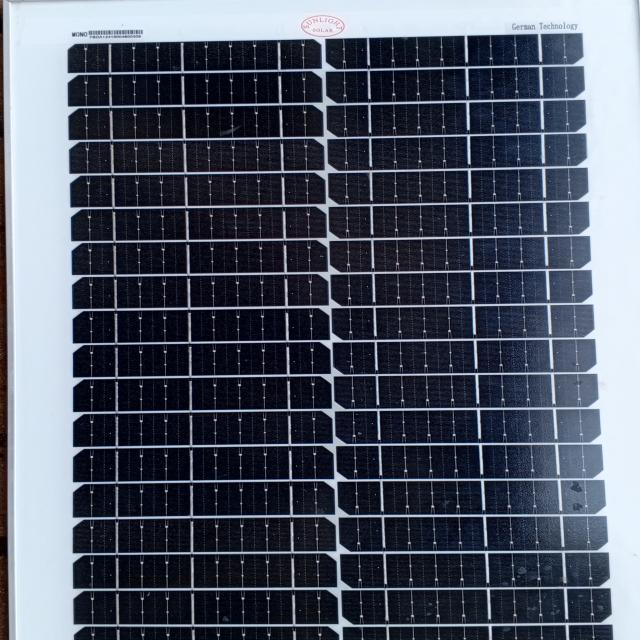Clean: (32, 14, 618, 640)
